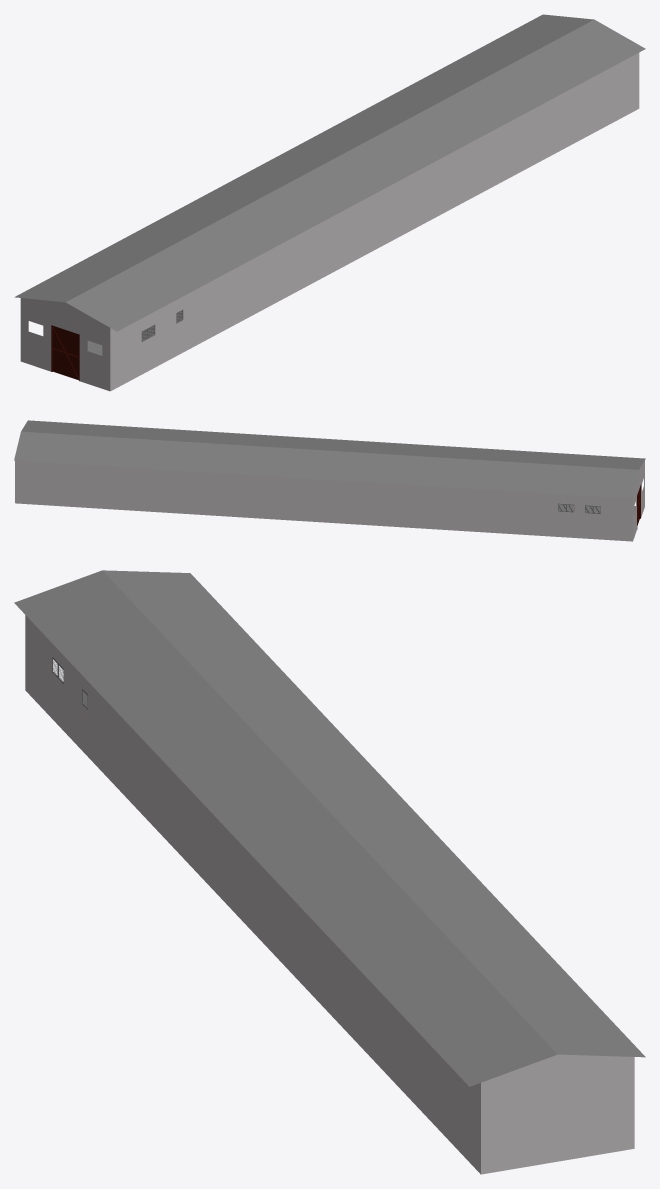
The picture shows the model from 3 angles, top to bottom: view 1: azimuth 30°, elevation 25°; view 2: azimuth 150°, elevation 25°; view 3: azimuth 270°, elevation 25°; orthographic projection. The views are drawn at different scales.
Parts seen in each view (by area): view 1: 雞二new; view 2: 雞二new; view 3: 雞二new.
Boxes of the visible parts, <box> form: 雞二new: <box>14,14,645,391</box>; 雞二new: <box>14,420,645,541</box>; 雞二new: <box>14,570,645,1174</box>.
Bounding box in the file's own units: 35.99 × 3.5 × 18.71.
